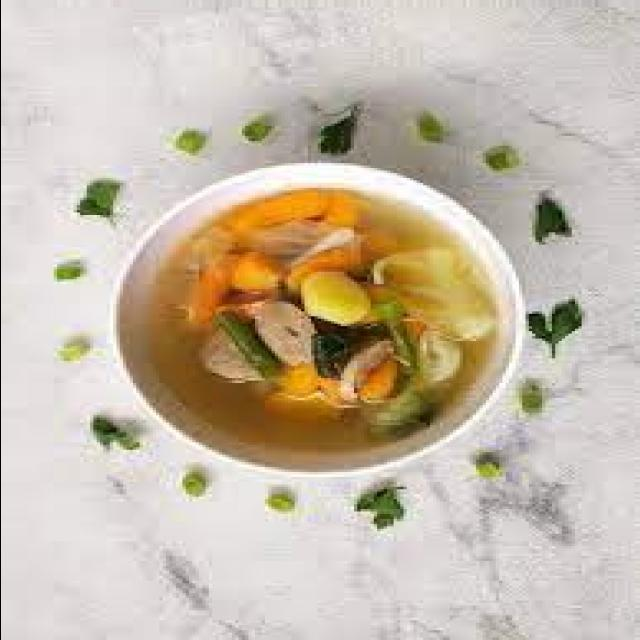sop: (119, 163, 521, 474)
